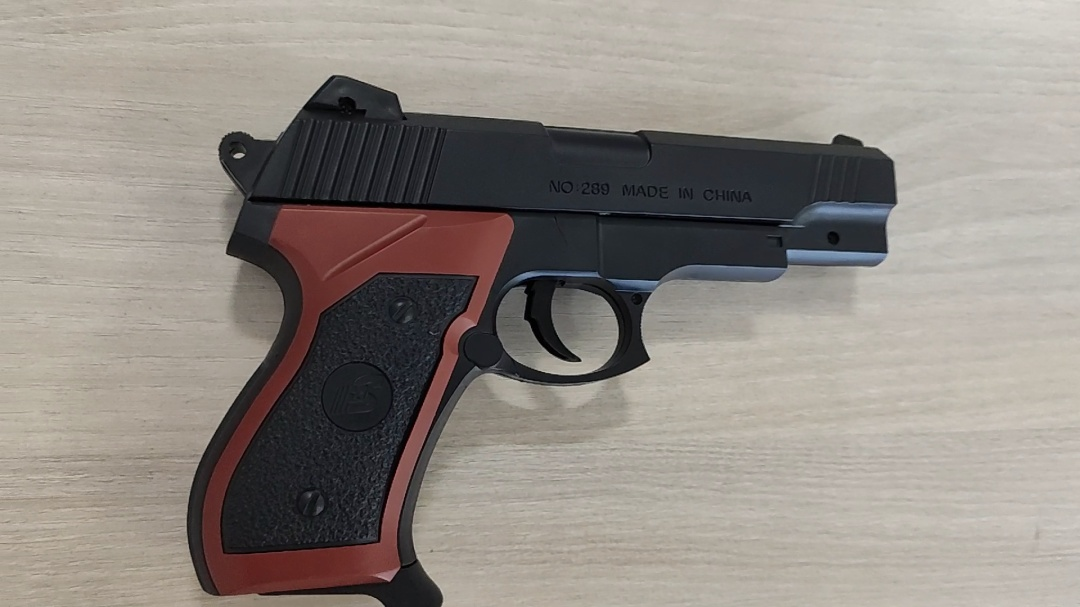gun: (183, 73, 901, 607)
